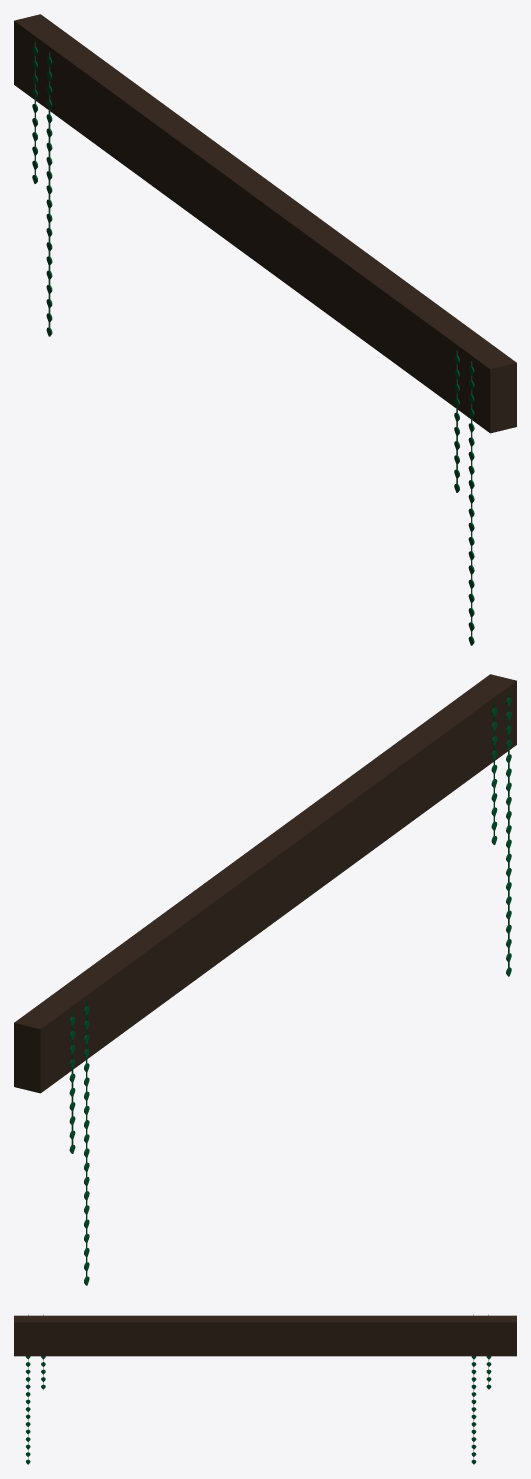
Rendered from Trave 2+piantefbx.fbx.
3 renders of one model, top to bottom at view 1: azimuth 30°, elevation 25°; view 2: azimuth 150°, elevation 25°; view 3: azimuth 270°, elevation 25°, orthographic. The views are drawn at different scales.
Parts seen in each view (by area): view 1: Trave.002; view 2: Trave.002; view 3: Trave.002.
Part boxes in pixels (x1,y1,x2,y2): Trave.002: (14, 14, 516, 645); Trave.002: (14, 674, 516, 1285); Trave.002: (14, 1314, 516, 1464).
Size of the model in its own units: 52.17 by 435 by 1319.
